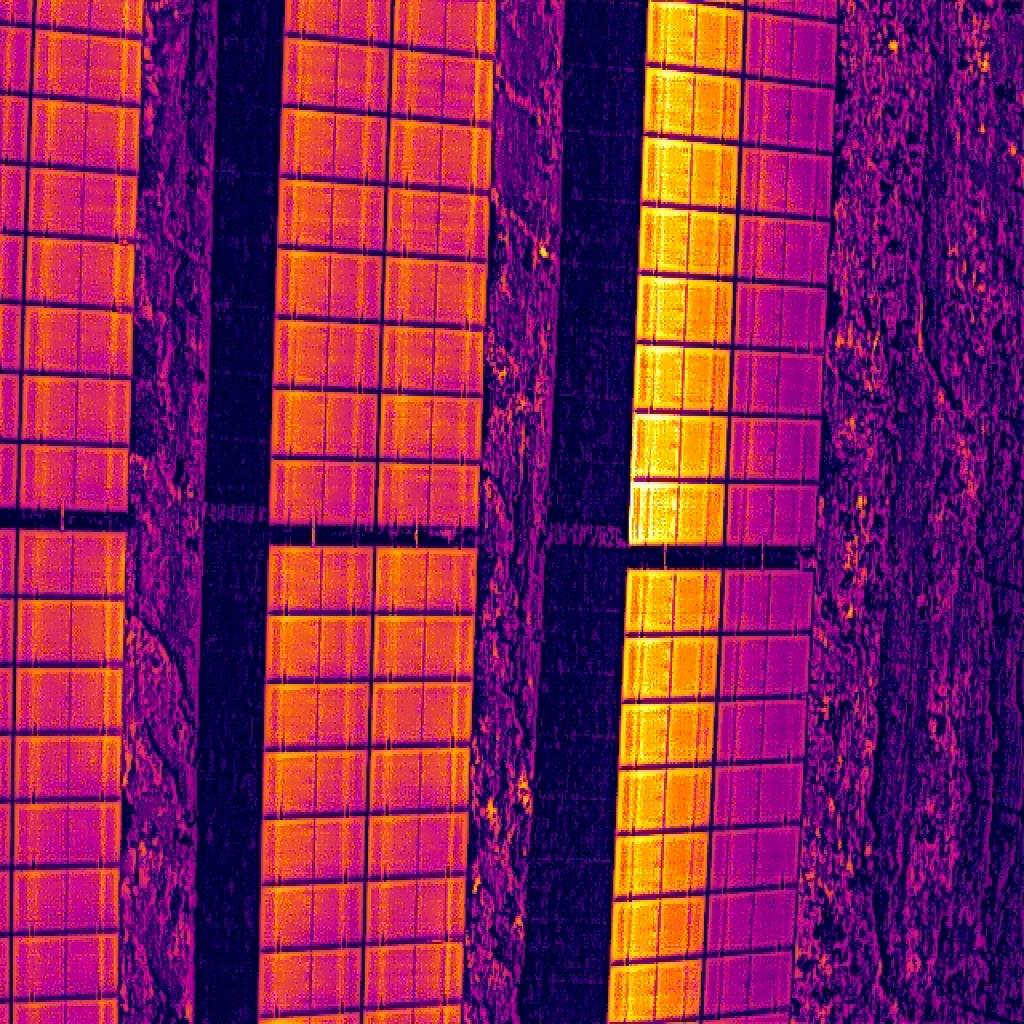panel: (278, 180, 387, 252), (20, 442, 128, 514), (382, 325, 486, 399), (17, 527, 127, 594), (377, 462, 480, 532), (637, 206, 737, 278), (745, 12, 838, 89), (268, 547, 375, 612), (16, 735, 121, 801), (625, 571, 724, 637), (372, 684, 473, 747), (724, 484, 822, 545), (629, 484, 727, 543)
